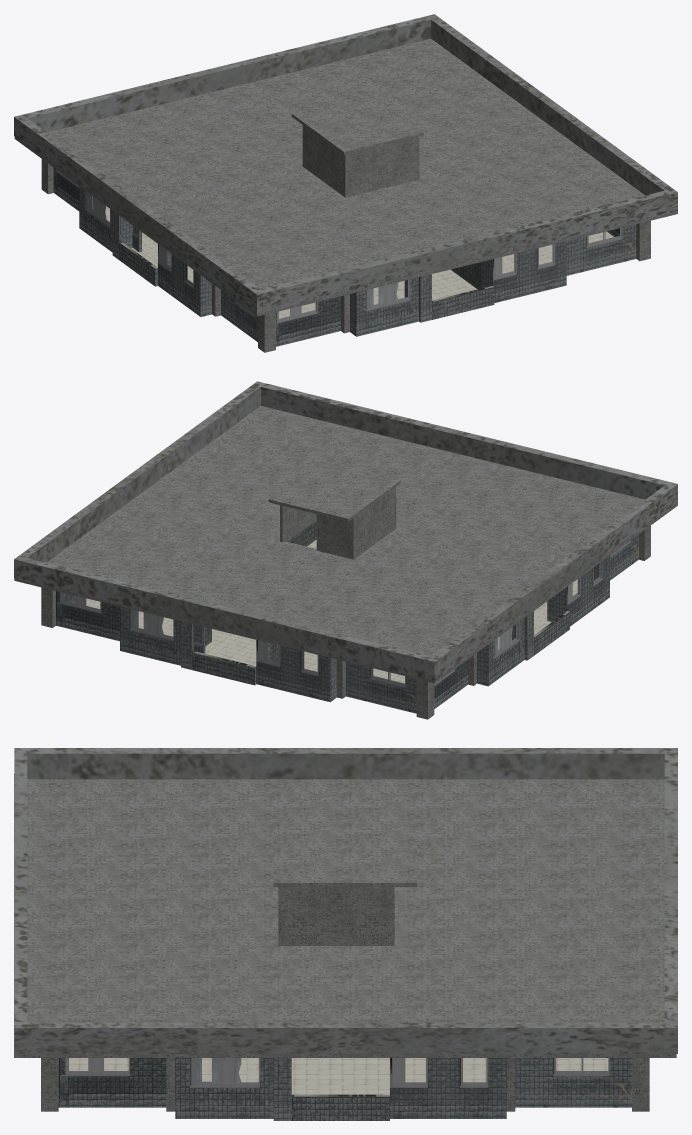
Rendered from BagSS07top_high.fbx.
3 renders of one model, top to bottom at view 1: azimuth 30°, elevation 25°; view 2: azimuth 150°, elevation 25°; view 3: azimuth 270°, elevation 25°, orthographic. The views are drawn at different scales.
Parts seen in each view (by area): view 1: topRoof700, roofrail, topMain700, topFloors700; view 2: topRoof700, roofrail, topMain700, topFloors700, topWalls700; view 3: topRoof700, roofrail, topMain700, topFloors700.
Boxes of the visible parts, bbox=[...] form: topRoof700: bbox=[14, 38, 677, 352]; roofrail: bbox=[14, 14, 677, 313]; topMain700: bbox=[53, 168, 636, 346]; topFloors700: bbox=[105, 206, 613, 318]; topRoof700: bbox=[14, 406, 677, 719]; roofrail: bbox=[14, 381, 677, 680]; topMain700: bbox=[56, 534, 638, 713]; topFloors700: bbox=[86, 539, 577, 683]; topWalls700: bbox=[205, 521, 316, 662]; topRoof700: bbox=[14, 774, 676, 1111]; roofrail: bbox=[14, 748, 677, 1053]; topMain700: bbox=[58, 1058, 631, 1120]; topFloors700: bbox=[69, 1058, 608, 1094].
Size of the model in its own units: 35.53 by 7.92 by 35.59.
